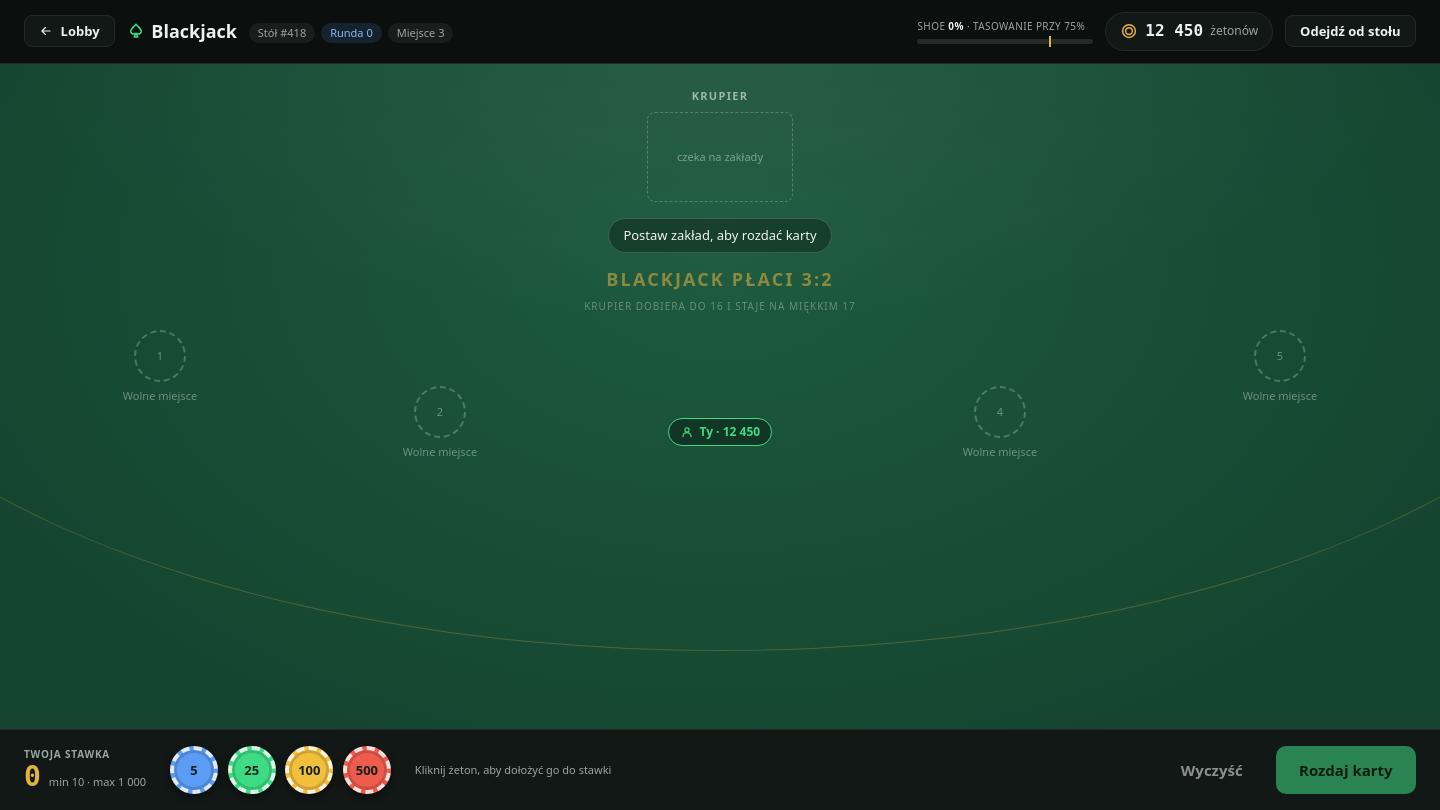
Test: BlackjackTablePage › accepts a bet between 10 and 1000: it is sent, deducted and the cards are dealt
expect the heading "Blackjack" is shown: met, box [127,18,237,45]
Click the button "100": [309, 770] box [285,746,333,794]
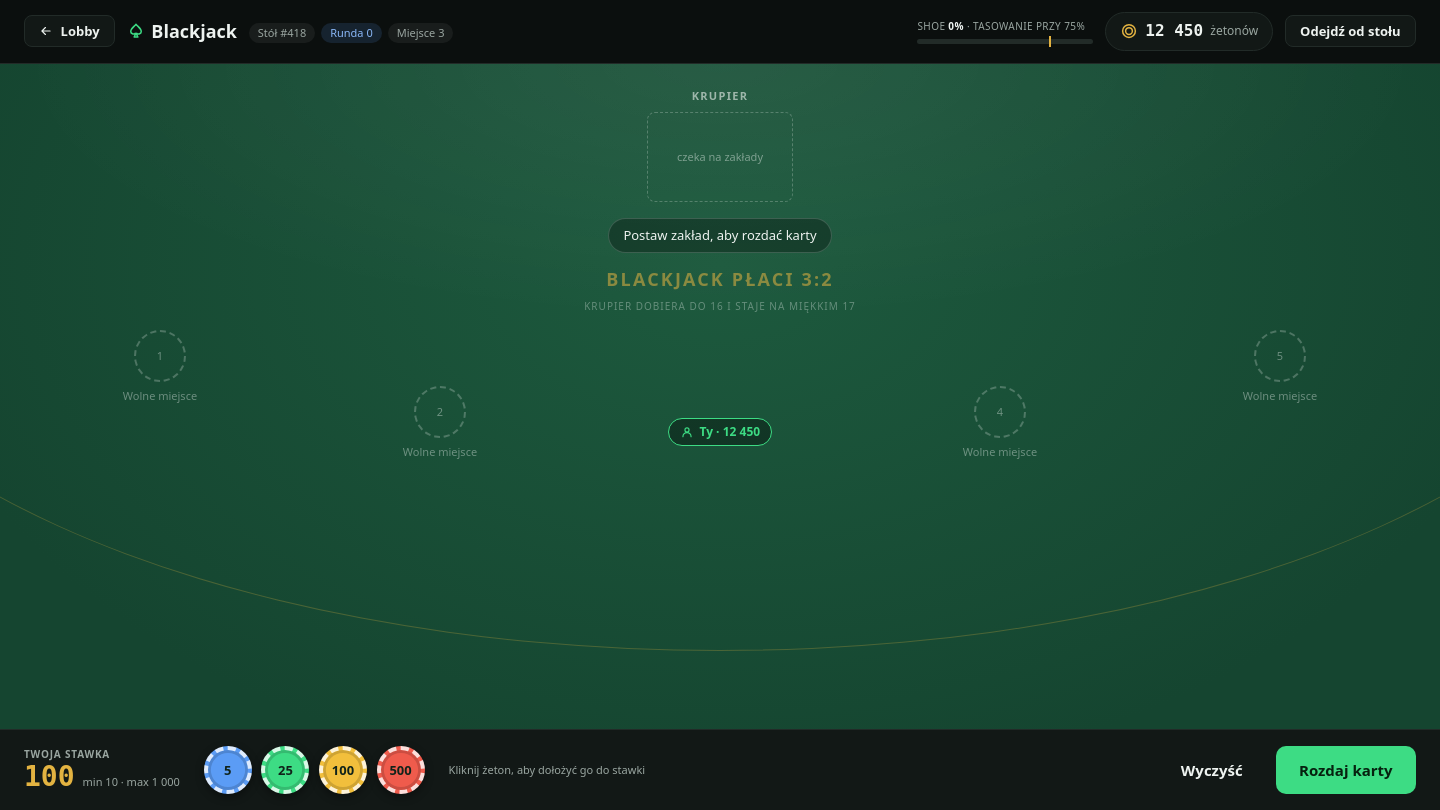
Click the button "25": [285, 770] box [261,746,309,794]
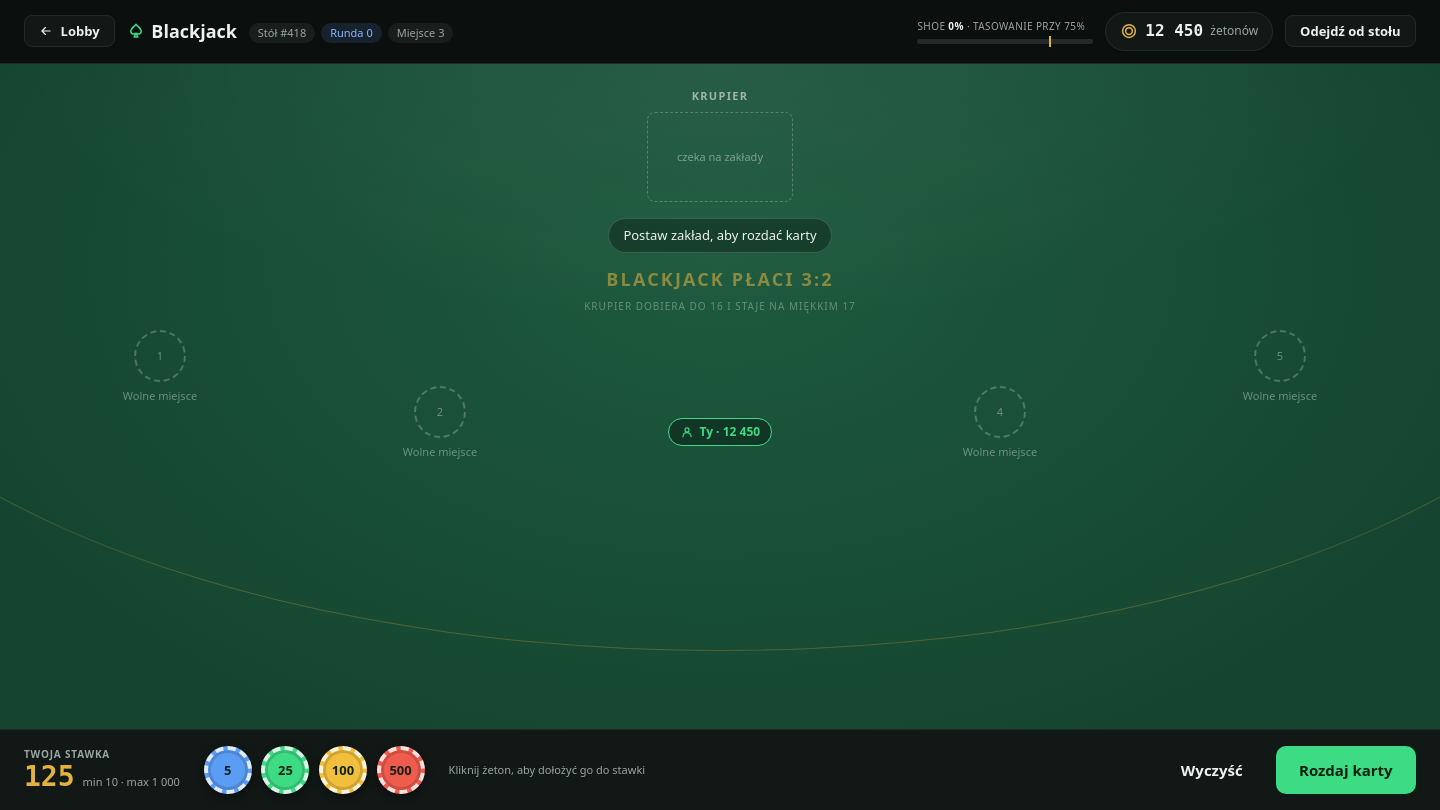
Click the button "25": [285, 770] box [261,746,309,794]
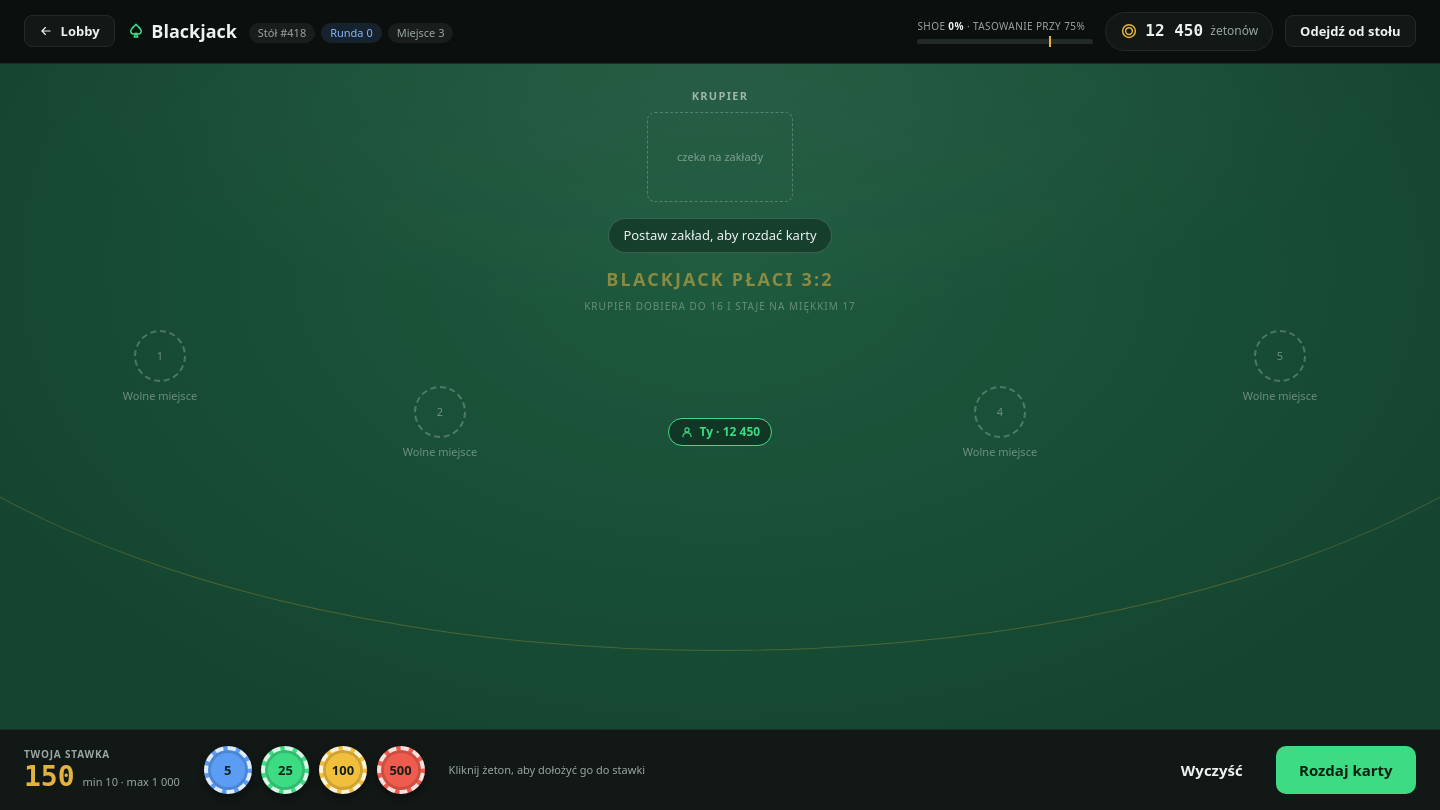
Click the button "Rozdaj karty": [1346, 770] box [1276,746,1416,794]
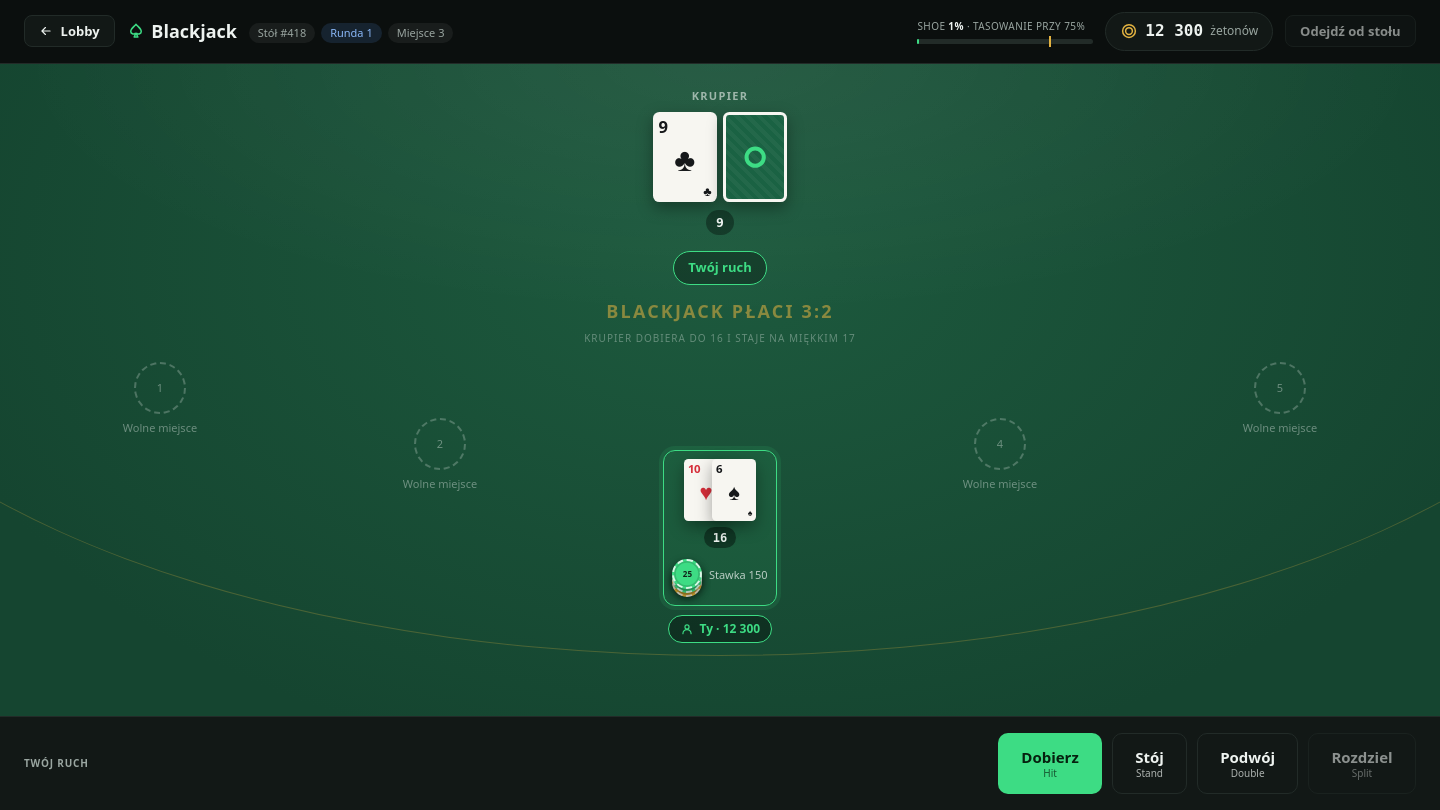
expect the text "Twój ruch" is shown: met, box [673,251,767,285]
expect the picture named "10 kier" is shown: met, box [684,459,728,521]
expect the picture named "6 pik" is shown: met, box [712,459,756,521]
